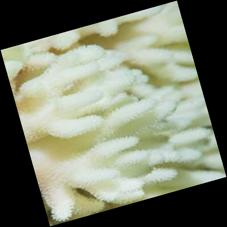bleached_corals: (1, 2, 226, 227)
